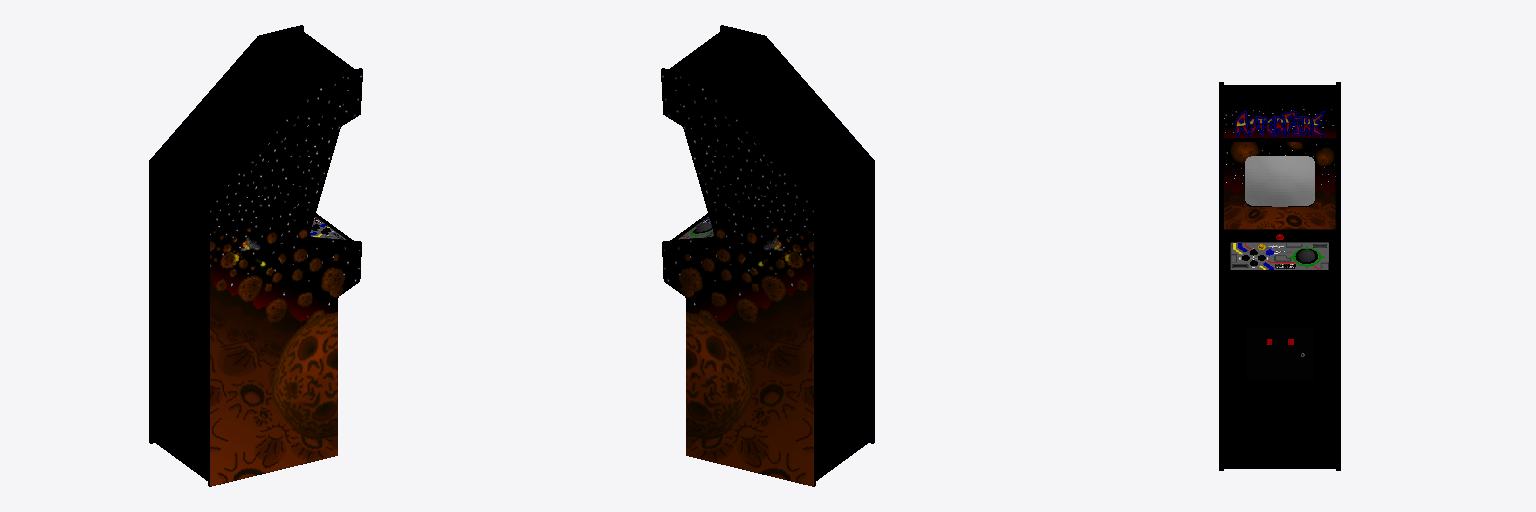
3 renders of one model, left to right at view 1: azimuth 30°, elevation 25°; view 2: azimuth 150°, elevation 25°; view 3: azimuth 270°, elevation 25°, orthographic.
Visible parts, largest first — view 1: CabinetSides_Plane.001, CabinetCenter_Cube.001; view 2: CabinetSides_Plane.001, CabinetCenter_Cube.001; view 3: CabinetCenter_Cube.001, CabinetSides_Plane.001, Screen_Plane.002, CoinDoorFace_Plane.004.
Part boxes in pixels (x1,y1,x2,y2): CabinetSides_Plane.001: (149,25,362,486); CabinetCenter_Cube.001: (155,30,354,480); CabinetSides_Plane.001: (661,25,874,486); CabinetCenter_Cube.001: (669,30,868,480); CabinetCenter_Cube.001: (1224,85,1335,468); CabinetSides_Plane.001: (1219,82,1340,470); Screen_Plane.002: (1245,156,1314,206); CoinDoorFace_Plane.004: (1246,329,1313,380).
Bounding box in the file's own units: 8.04 × 19.01 × 5.55.
Materials: 14 (3 with a texture image).